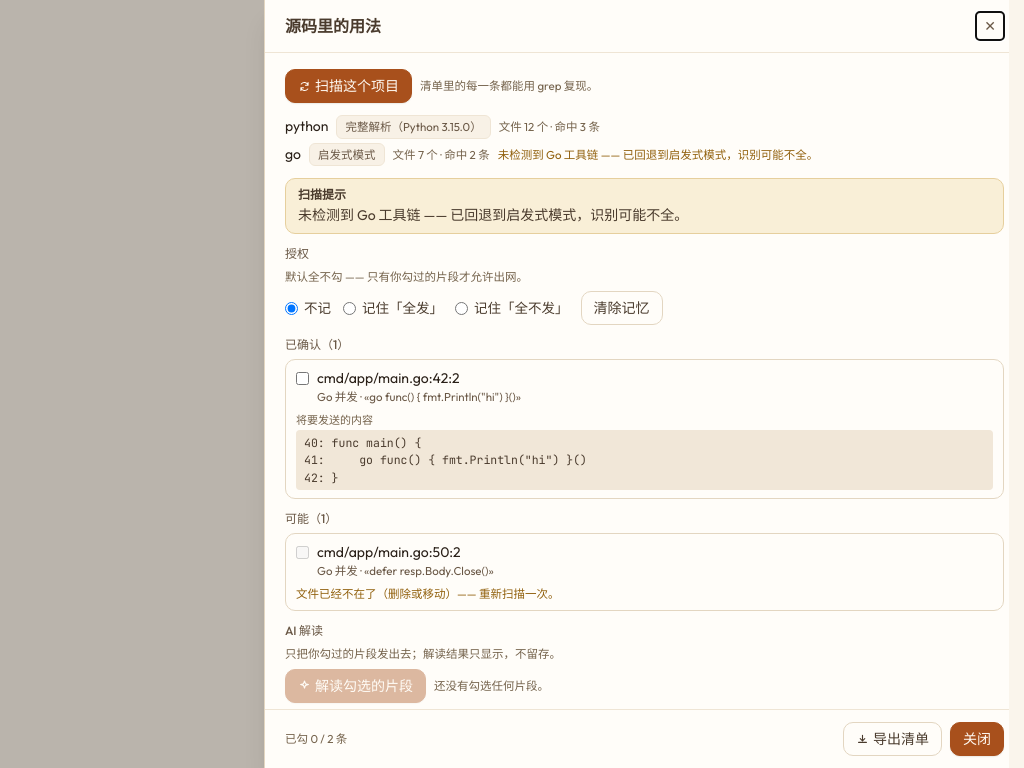
Test: M9 P4.4 · DL-20 扫描模式显式可见 › ④ 勾一条 ⇒ 只有那一条被勾上（逐条控制，不是「全选」）
This screenshot has width=1024, height=768.
Click the checkbox named "cmd/app/main.go:42": (302, 379) [296,372,309,385]
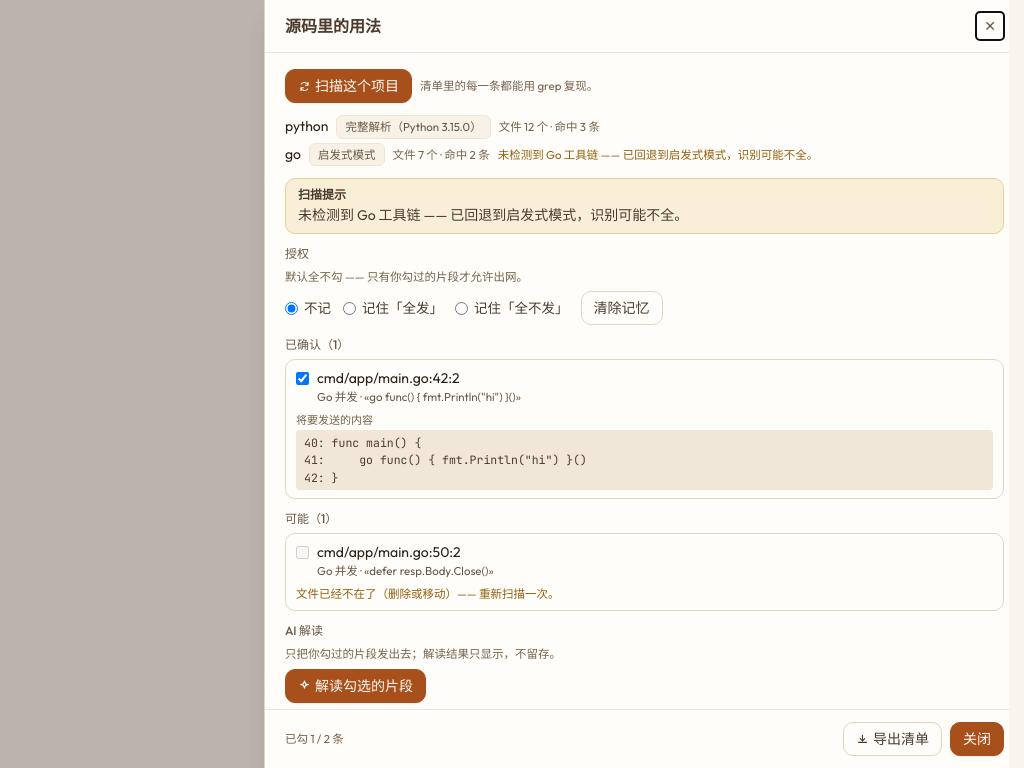
Expected: the checkbox named "cmd/app/main.go:50" is not checked, [296,546,309,559]
Result: the checkbox named "cmd/app/main.go:42" is checked at [296,372,309,385]
Result: the text "已勾 1 / 2 条" is shown at [285,730,344,748]
